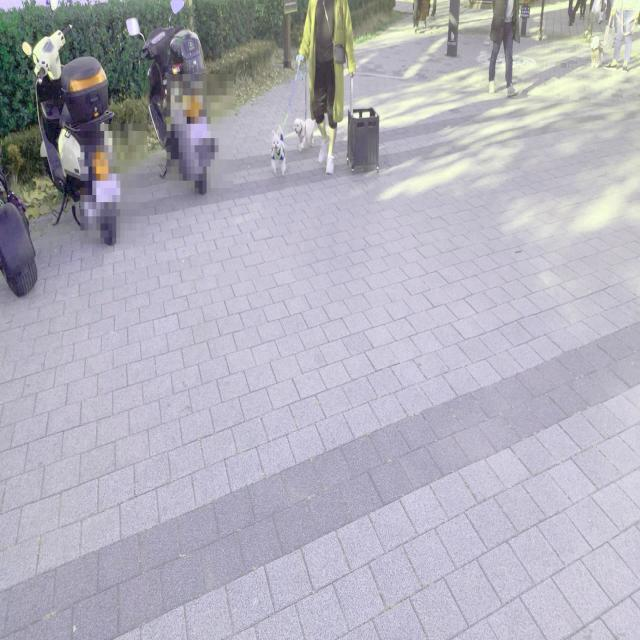Leashed_Dog: (268, 46, 328, 184), (293, 46, 329, 155), (589, 9, 621, 70)
